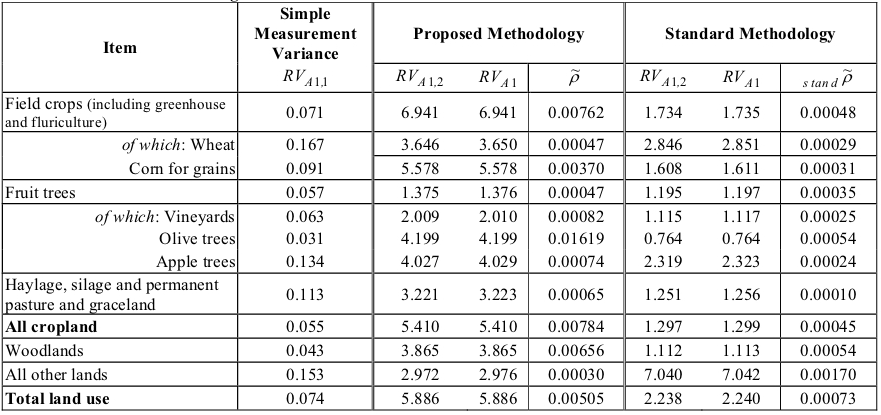column: (1, 1, 237, 415), (236, 1, 375, 415), (529, 1, 626, 415), (782, 1, 877, 413), (373, 1, 459, 415), (701, 1, 780, 415), (625, 1, 701, 414), (459, 1, 531, 415)
row: (1, 1, 879, 63), (1, 272, 877, 316), (1, 91, 878, 130), (1, 385, 877, 415), (1, 63, 879, 92), (1, 154, 880, 181), (1, 361, 880, 387), (1, 204, 879, 230), (1, 130, 878, 156), (1, 248, 877, 274), (1, 313, 877, 338), (1, 337, 877, 362), (2, 179, 880, 203), (1, 229, 878, 250)
